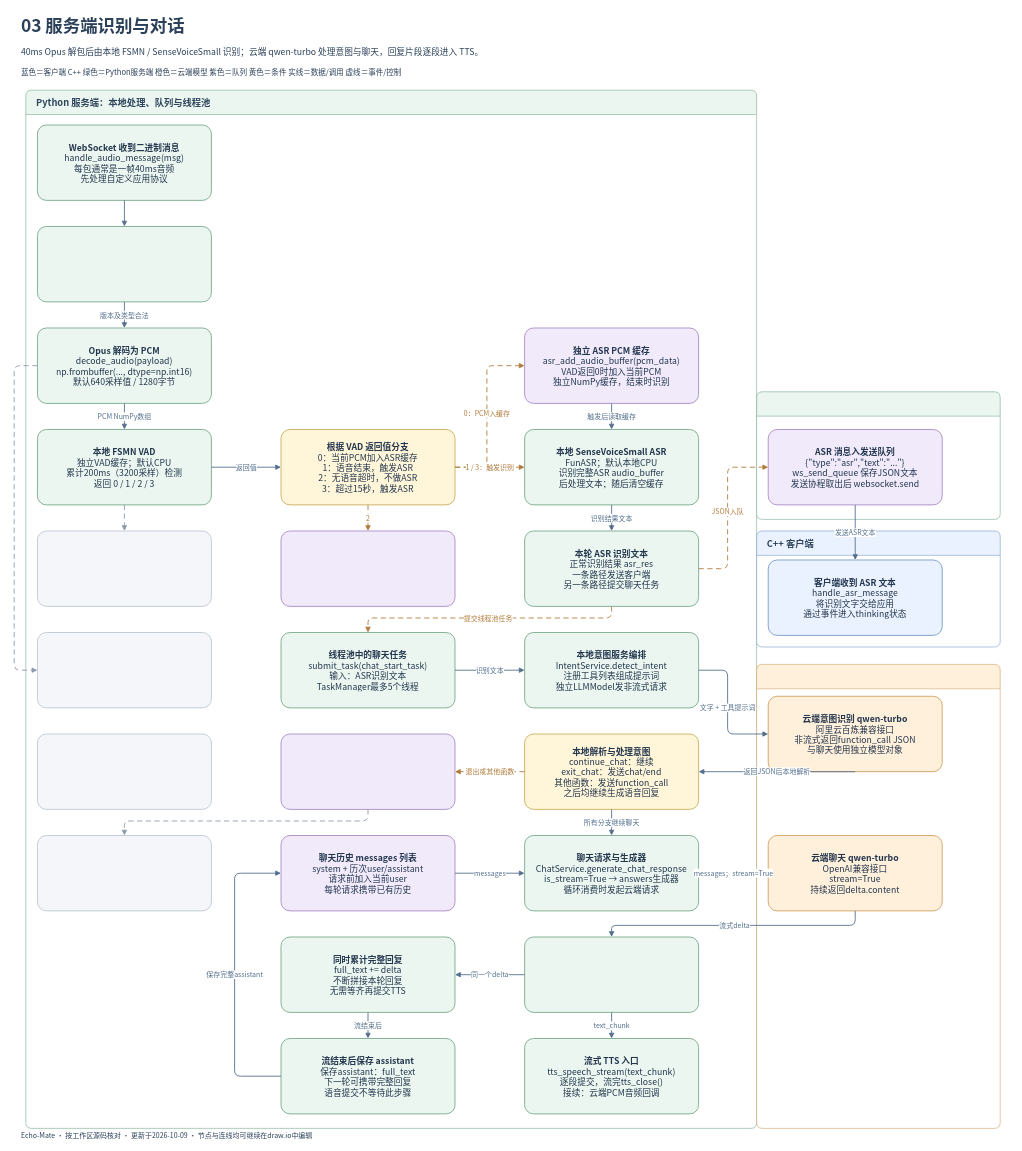
This 1022x1151 diagram has some shape labels left out. Each missing label, with the box of its shape:
ASR 结束分支的边界 返回1/3时不追加当前帧 ASR识别旧缓存并清空 is_vad=true 后忽略本轮后续: (37, 733, 212, 810)
VAD 当前实现边界 当前帧追加前检查 >15秒 last_speech_pos > 800 不等同实际语音持续时长: (37, 530, 212, 607)
函数结果历史结构限制 history_list当前为嵌套列表 ChatService预期逐项字典 当前函数结果历史未加入: (37, 835, 212, 911)
控制消息入发送队列 exit_chat → chat/end 其他函数 → function_call 入发送队列，可先于音频: (280, 733, 455, 810)
无语音消息入发送队列 is_vad=true；约3秒无语音 type=vad / state=no_speech 入 ws_send_queue；不做ASR: (280, 530, 455, 607)
服务端发送 ASR 文本: (756, 391, 1000, 519)
消费流式回复片段 for chunk in stream yield delta → text_chunk 片段即送TTS，同时累计全文: (524, 936, 699, 1013)
解包并检查协议 unpack_bin_frame(msg) !HHI：8字节头 + Opus 校验版本 / type=0 / is_vad: (37, 226, 212, 302)
阿里云百炼：云端模型: (756, 664, 1000, 1128)
音频块与 VAD 切片不同 网络默认40ms；VAD切200ms ASR独立保存本轮PCM ASR不是每200ms云端识别: (37, 632, 212, 708)
